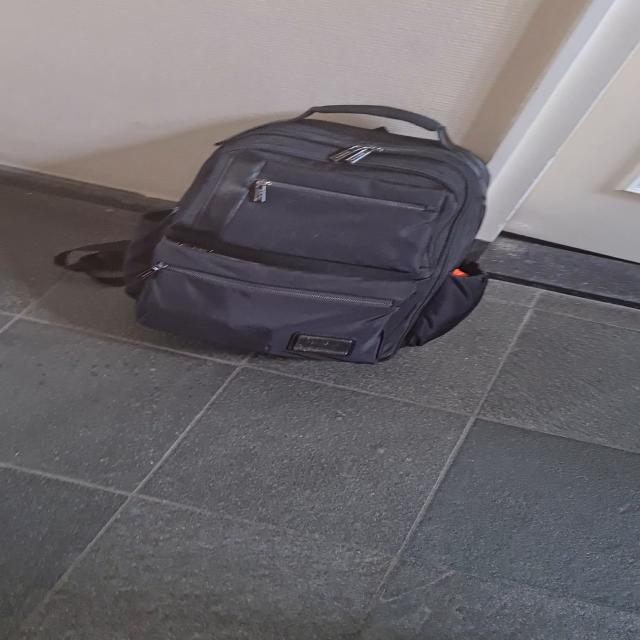backpack: (118, 100, 524, 368)
